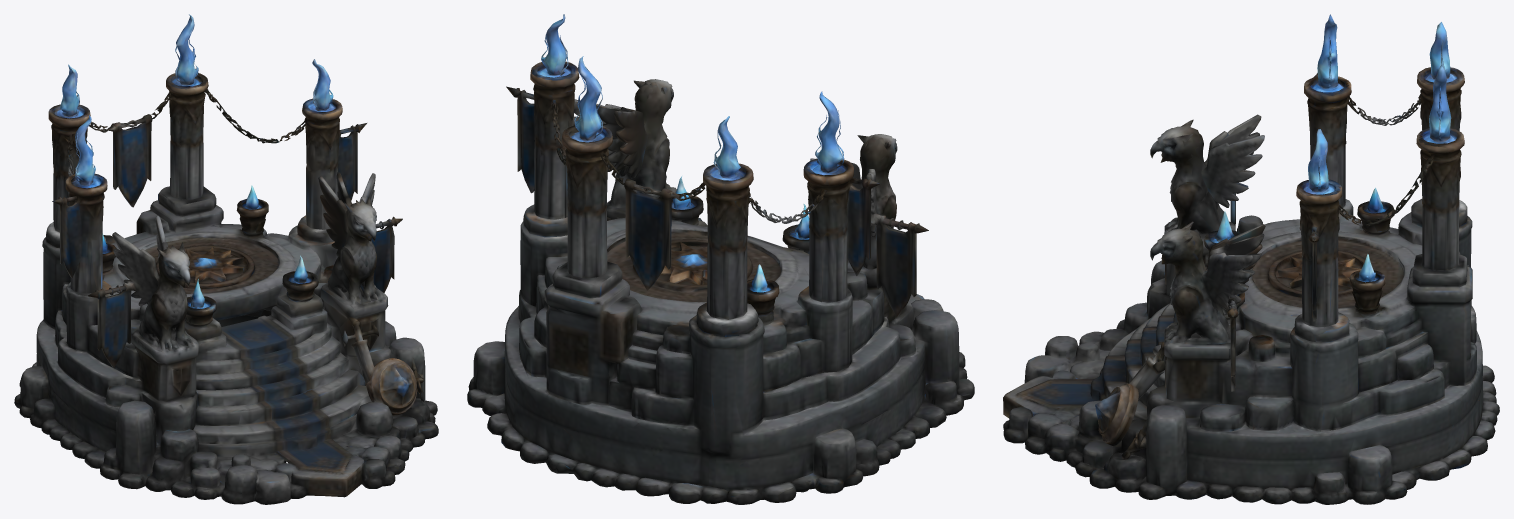
The model's file is magic-ritual.glb.
The picture shows the model from 3 angles, left to right: view 1: azimuth 30°, elevation 25°; view 2: azimuth 150°, elevation 25°; view 3: azimuth 270°, elevation 25°; orthographic projection. The views are drawn at different scales.
Parts seen in each view (by area): view 1: node_0; view 2: node_0; view 3: node_0.
Part boxes in pixels (x1=…): node_0: x1=14, y1=14, x2=438, y2=504; node_0: x1=467, y1=14, x2=974, y2=504; node_0: x1=1003, y1=14, x2=1499, y2=504.
Bounding box in the file's own units: 0.7714 × 0.7438 × 0.9014.
Materials: 1 (1 with a texture image).
